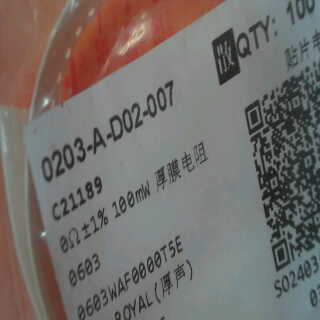0R: (56, 205, 110, 285)
